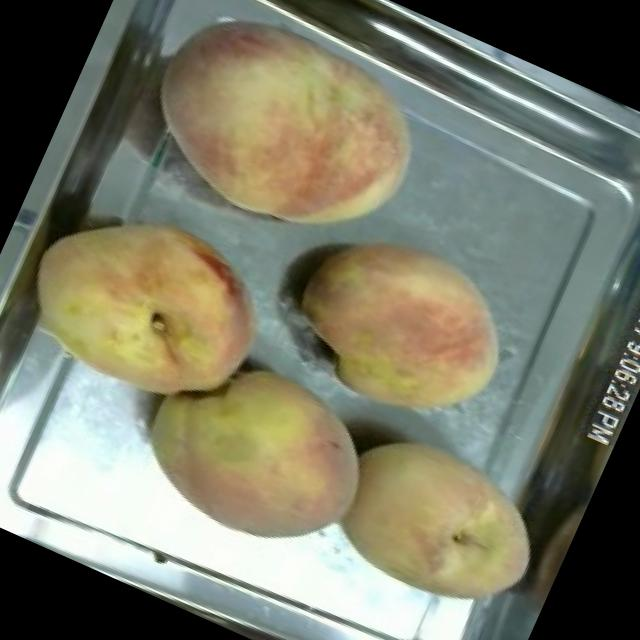Fruit: (113, 0, 456, 276), (0, 164, 300, 444), (112, 320, 400, 583), (262, 202, 539, 456), (306, 405, 573, 640)
